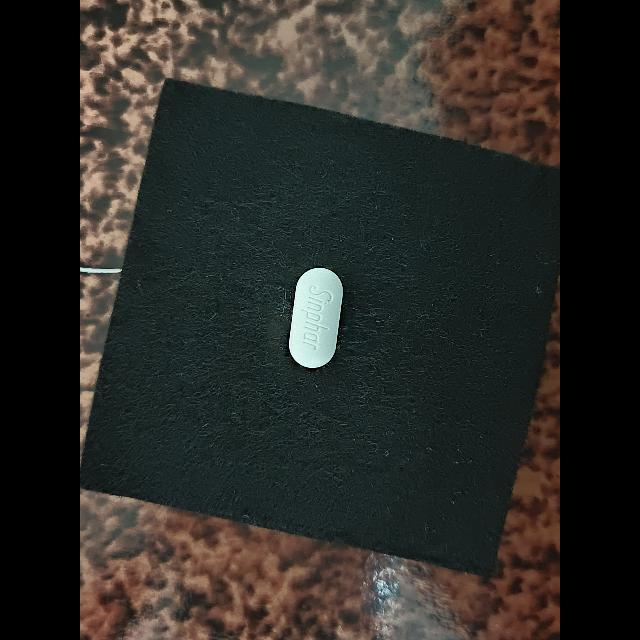Intact Pill: (289, 267, 343, 368)
